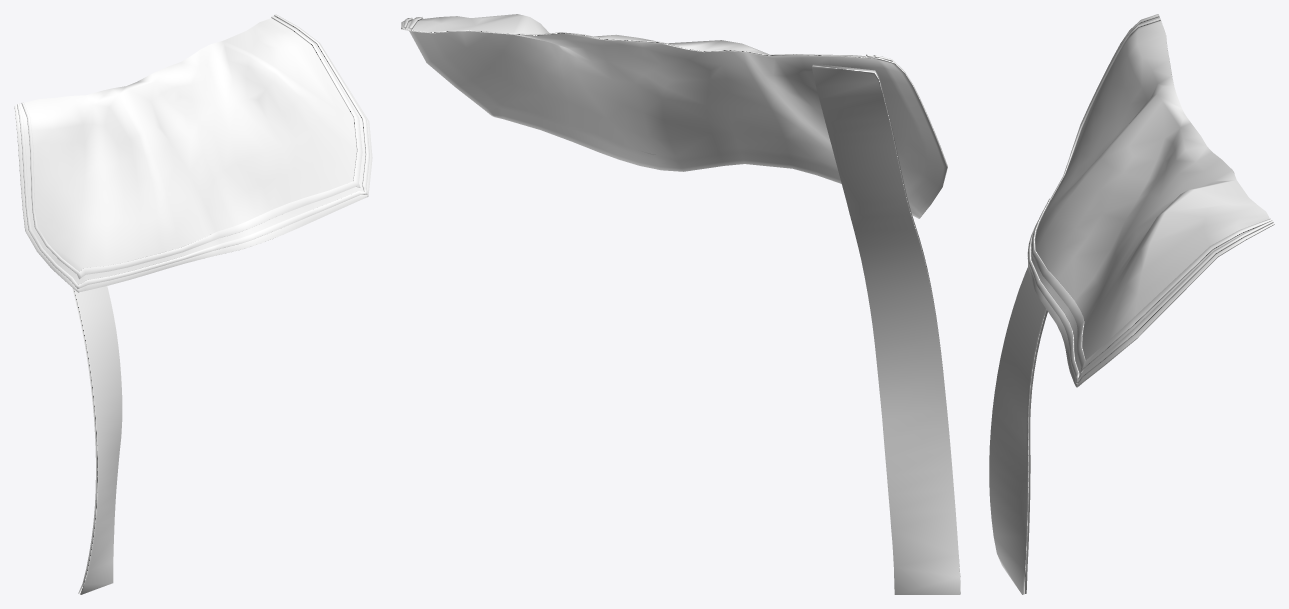
File: Jac_Pocket_RIGHT_V2.glb
3 renders of one model, left to right at view 1: azimuth 30°, elevation 25°; view 2: azimuth 150°, elevation 25°; view 3: azimuth 270°, elevation 25°, orthographic. The views are drawn at different scales.
Visible parts, largest first — view 1: Jac_Pocket_RIGHT_V2.001, Jac2_Pocket_Right.001, Jac_Rope_Pocket_RIGHT_V2.001; view 2: Jac_Pocket_RIGHT_V2.001, Jac2_Pocket_Right.001; view 3: Jac_Pocket_RIGHT_V2.001, Jac2_Pocket_Right.001, Jac_Rope_Pocket_RIGHT_V2.001.
Boxes of the visible parts, left/top/right/bottom form: Jac_Pocket_RIGHT_V2.001: left=14, top=18, right=372, bottom=292; Jac2_Pocket_Right.001: left=72, top=286, right=122, bottom=594; Jac_Rope_Pocket_RIGHT_V2.001: left=17, top=14, right=369, bottom=288; Jac_Pocket_RIGHT_V2.001: left=401, top=14, right=947, bottom=218; Jac2_Pocket_Right.001: left=812, top=63, right=960, bottom=594; Jac_Pocket_RIGHT_V2.001: left=1027, top=14, right=1274, bottom=387; Jac2_Pocket_Right.001: left=989, top=267, right=1047, bottom=594; Jac_Rope_Pocket_RIGHT_V2.001: left=1027, top=14, right=1273, bottom=383.
Bounding box in the file's own units: 0.2246 × 0.2639 × 0.1228.
Materials: 3 (3 with a texture image).
